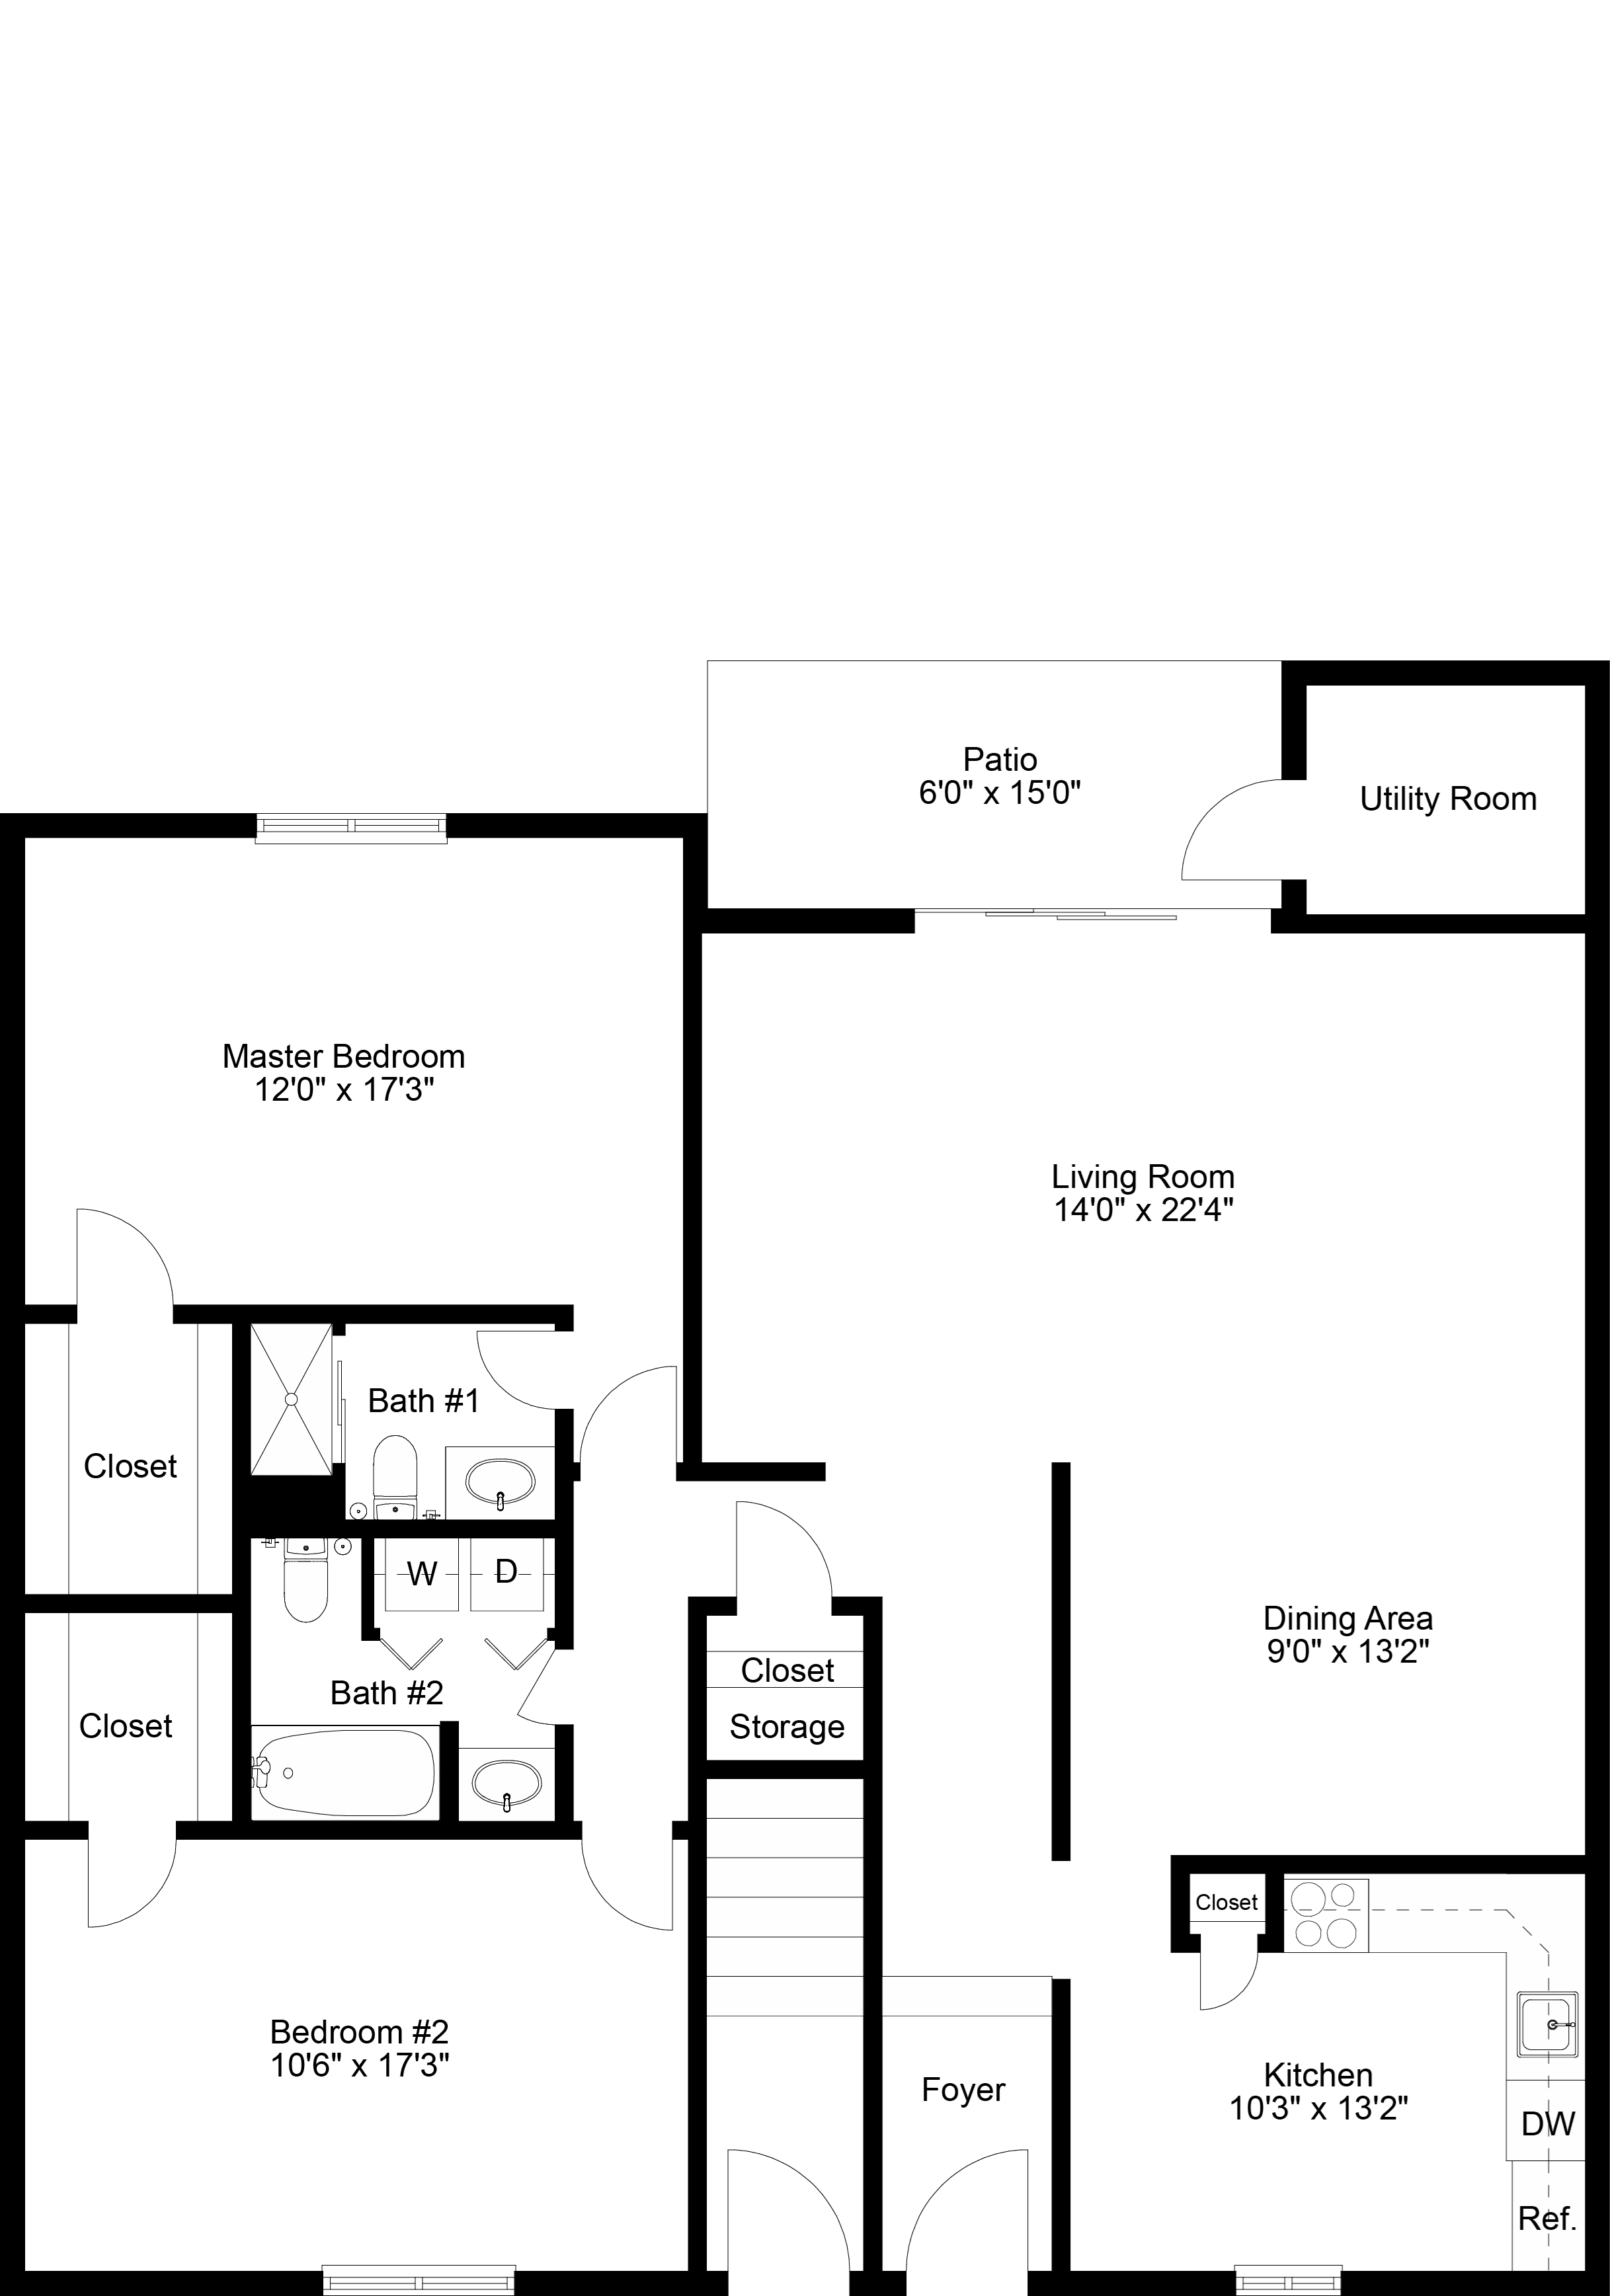door: (724, 2135, 855, 2258), (912, 2130, 1019, 2265), (1156, 759, 1261, 893), (1162, 1989, 1266, 2123), (58, 1193, 178, 1300), (724, 1495, 837, 1595), (82, 1835, 192, 1937), (581, 1361, 680, 1462), (576, 1858, 680, 1942), (471, 1324, 546, 1415), (382, 1621, 448, 1673), (480, 1628, 541, 1673), (516, 1668, 556, 1729)
